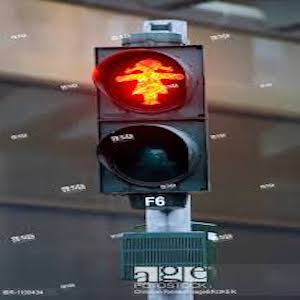red: (122, 56, 184, 108)
